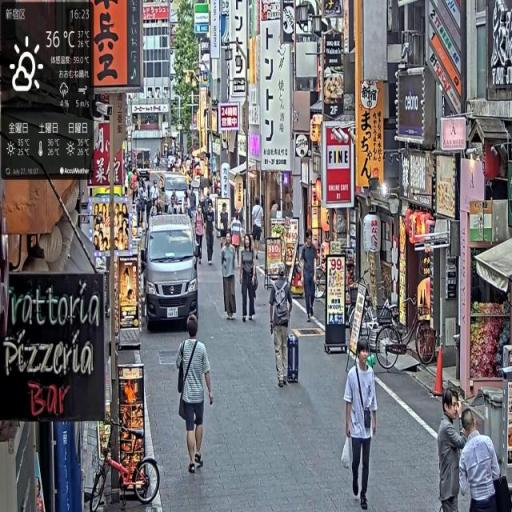person: (177, 315, 215, 474), (345, 340, 378, 511), (460, 410, 501, 512), (439, 389, 468, 512), (270, 264, 293, 388), (301, 231, 319, 323), (241, 235, 257, 323), (222, 233, 237, 320), (252, 199, 265, 260), (205, 204, 216, 266), (195, 206, 206, 265), (232, 212, 243, 268), (220, 204, 230, 251)
